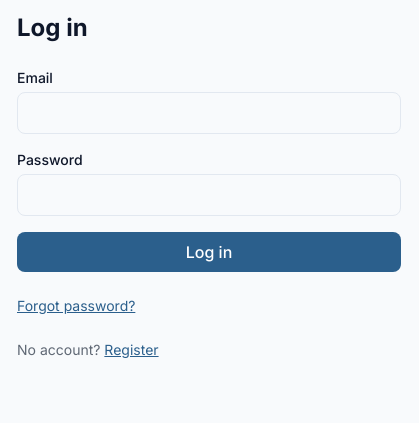
auth pages › login shows field errors on empty submit
Click the button "Log in" at point(209, 252), box left=17, top=232, right=401, bottom=272
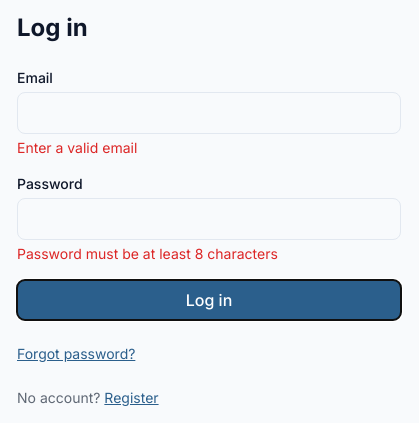
Result: the text "Enter a valid email" is shown at left=17, top=139, right=137, bottom=156
